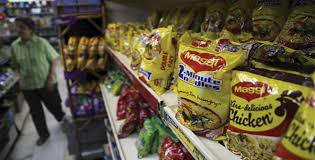maggie: (176, 42, 229, 141), (139, 26, 173, 90)
